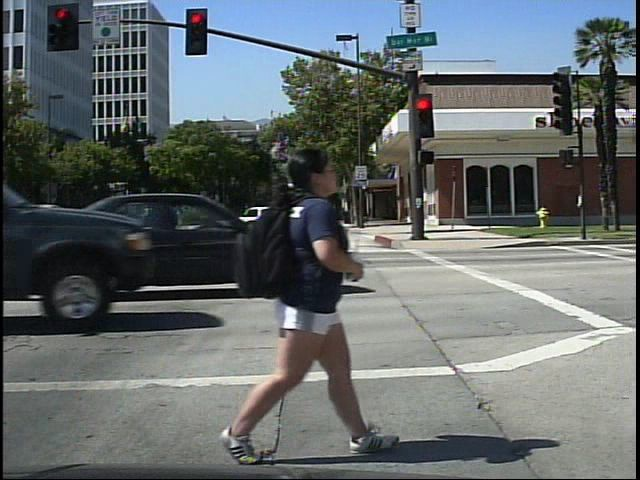person: (233, 130, 370, 466)
